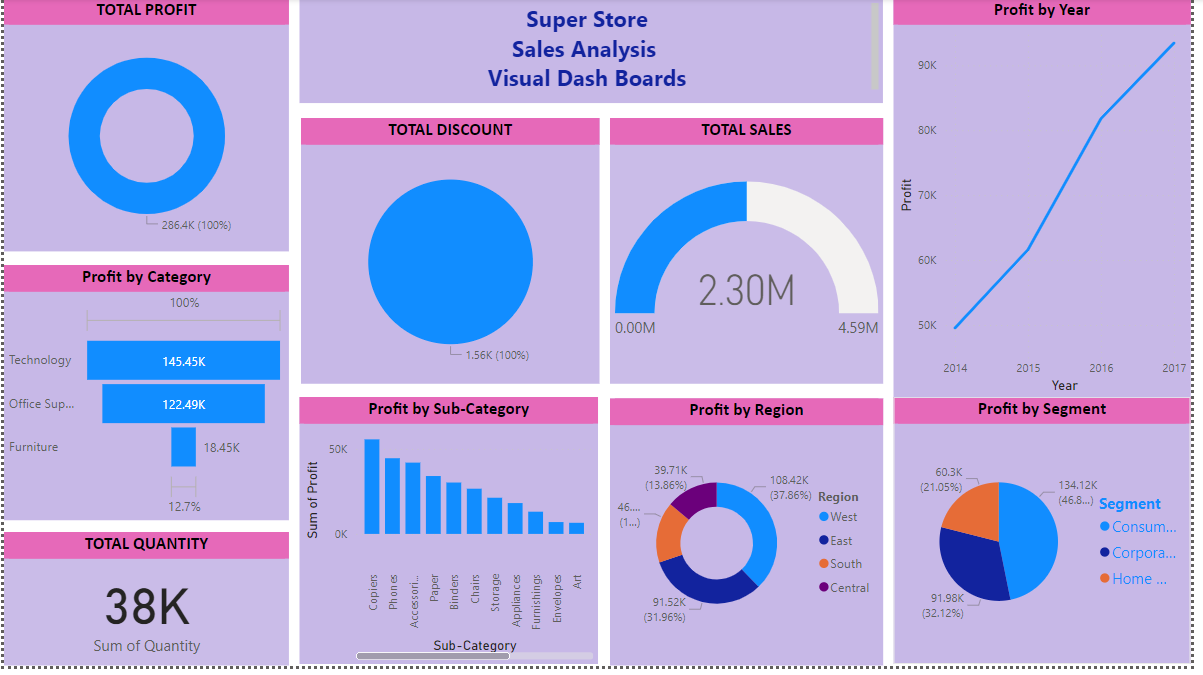

The dashboard page shown, as its layout file describes it:
{"tool":"powerbi","page":{"name":"Page 1","canvas":[1280,720],"ordinal":0},"visuals":[{"type":"donutChart","title":"TOTAL PROFIT","fields":{"Y":["Sum(Orders.Profit)"]},"box":[0,0,307.4,273.4],"z":0},{"type":"pieChart","title":"      TOTAL DISCOUNT","fields":{"Y":["Sum(Orders.Discount)"]},"box":[320.4,129.4,322,286.4],"z":1000},{"type":"gauge","fields":{"Y":["Sum(Orders.Sales)"]},"box":[653.7,129.4,294.5,286.4],"z":2000},{"type":"card","title":"TOTAL QUANTITY","fields":{"Values":["Sum(Orders.Quantity)"]},"box":[0,576,307.4,144],"z":3000},{"type":"clusteredColumnChart","title":"Profit by Sub-Category","fields":{"Y":["Sum(Orders.Profit)"],"Category":["Orders.Sub-Category"]},"box":[318.7,430.4,322,288],"z":5000},{"type":"donutChart","title":"Profit by Region","fields":{"Category":["Orders.Region"],"Y":["Sum(Orders.Profit)"]},"box":[653.7,432,294.5,288],"z":6000},{"type":"pieChart","title":"Profit by Segment","fields":{"Category":["Orders.Segment"],"Y":["Sum(Orders.Profit)"]},"box":[959.5,430.4,320.4,288],"z":7000},{"type":"lineChart","fields":{"Category":["Orders.Order Date.Variation.Date Hierarchy.Year"],"Y":["Sum(Orders.Profit)"]},"box":[959.5,0,320.4,430.4],"z":8000},{"type":"funnel","title":"Profit by Category","fields":{"Category":["Orders.Category"],"Y":["Sum(Orders.Profit)"]},"box":[0,288,307.4,275.1],"z":8001},{"type":"textbox","box":[318.7,0,629.4,113.3],"z":8002}]}

Visuals, with their boxes in screenshot pixels (x1, y1, x2, y2), scaled from the page's 1280x720 canvas onto the 1203x675 screenshot:
"TOTAL PROFIT" donutChart: 0,0,289,256
"      TOTAL DISCOUNT" pieChart: 301,121,604,390
gauge - Sum(Orders.Sales): 614,121,891,390
"TOTAL QUANTITY" card: 0,540,289,674
"Profit by Sub-Category" clusteredColumnChart: 300,404,602,674
"Profit by Region" donutChart: 614,405,891,674
"Profit by Segment" pieChart: 902,404,1202,674
lineChart - Orders.Order Date.Variation.Date Hierarchy.Year x Sum(Orders.Profit): 902,0,1202,404
"Profit by Category" funnel: 0,270,289,528
textbox: 300,0,891,106
